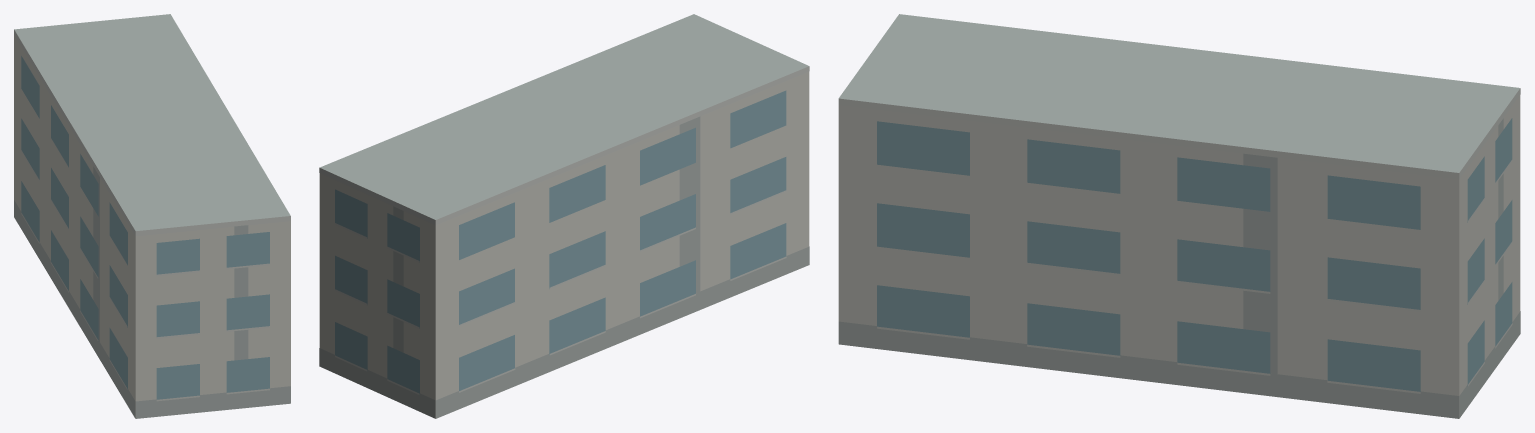
File: survey-upis-32875351.glb
The picture shows the model from 3 angles, left to right: view 1: azimuth 30°, elevation 25°; view 2: azimuth 150°, elevation 25°; view 3: azimuth 270°, elevation 25°; orthographic projection. The views are drawn at different scales.
Parts seen in each view (by area): view 1: survey-upis-32875351.tmp; view 2: survey-upis-32875351.tmp; view 3: survey-upis-32875351.tmp.
Part boxes in pixels (x1,y1,x2,y2): survey-upis-32875351.tmp: [14, 14, 290, 418]; survey-upis-32875351.tmp: [319, 14, 809, 418]; survey-upis-32875351.tmp: [838, 14, 1520, 418].
Bounding box in the file's own units: 12.7 × 9.15 × 23.01.
